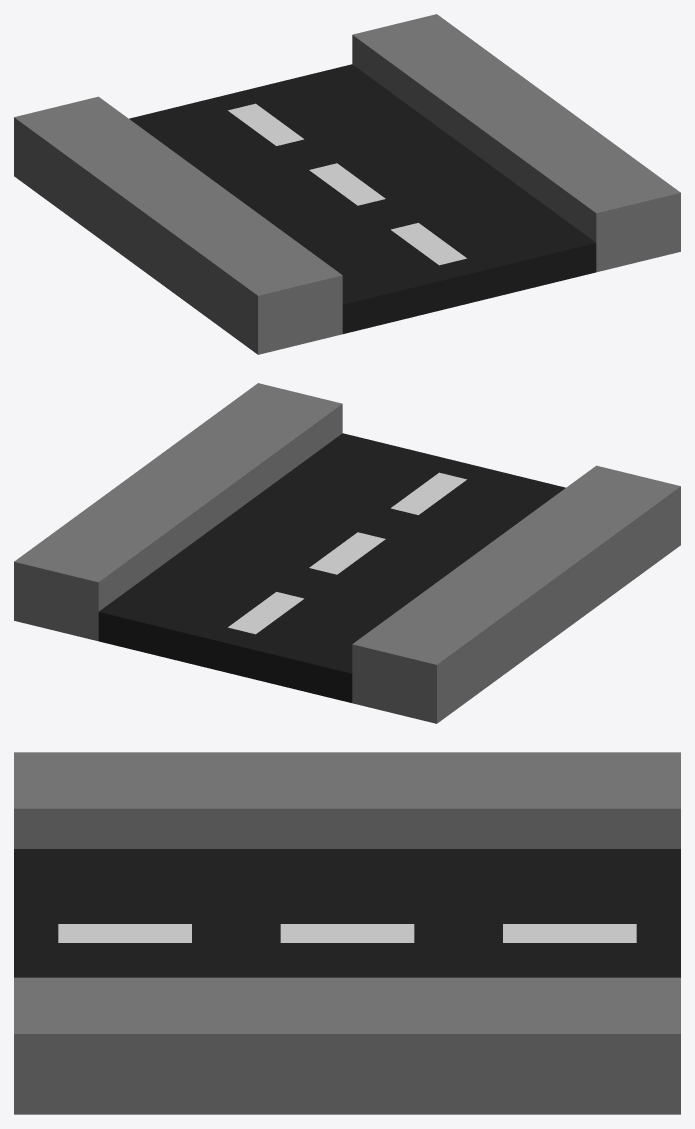
Rendered from StraightRoad.obj.
3 renders of one model, top to bottom at view 1: azimuth 30°, elevation 25°; view 2: azimuth 150°, elevation 25°; view 3: azimuth 270°, elevation 25°, orthographic. The views are drawn at different scales.
Visible parts, largest first — view 1: StraightRoad; view 2: StraightRoad; view 3: StraightRoad.
Boxes of the visible parts, x1,y1,x2,y2 form: StraightRoad: [14, 14, 680, 354]; StraightRoad: [14, 383, 680, 723]; StraightRoad: [14, 752, 680, 1114].
Size of the model in its own units: 1.5 by 0.2 by 1.5.
1 material, 1 textured.
